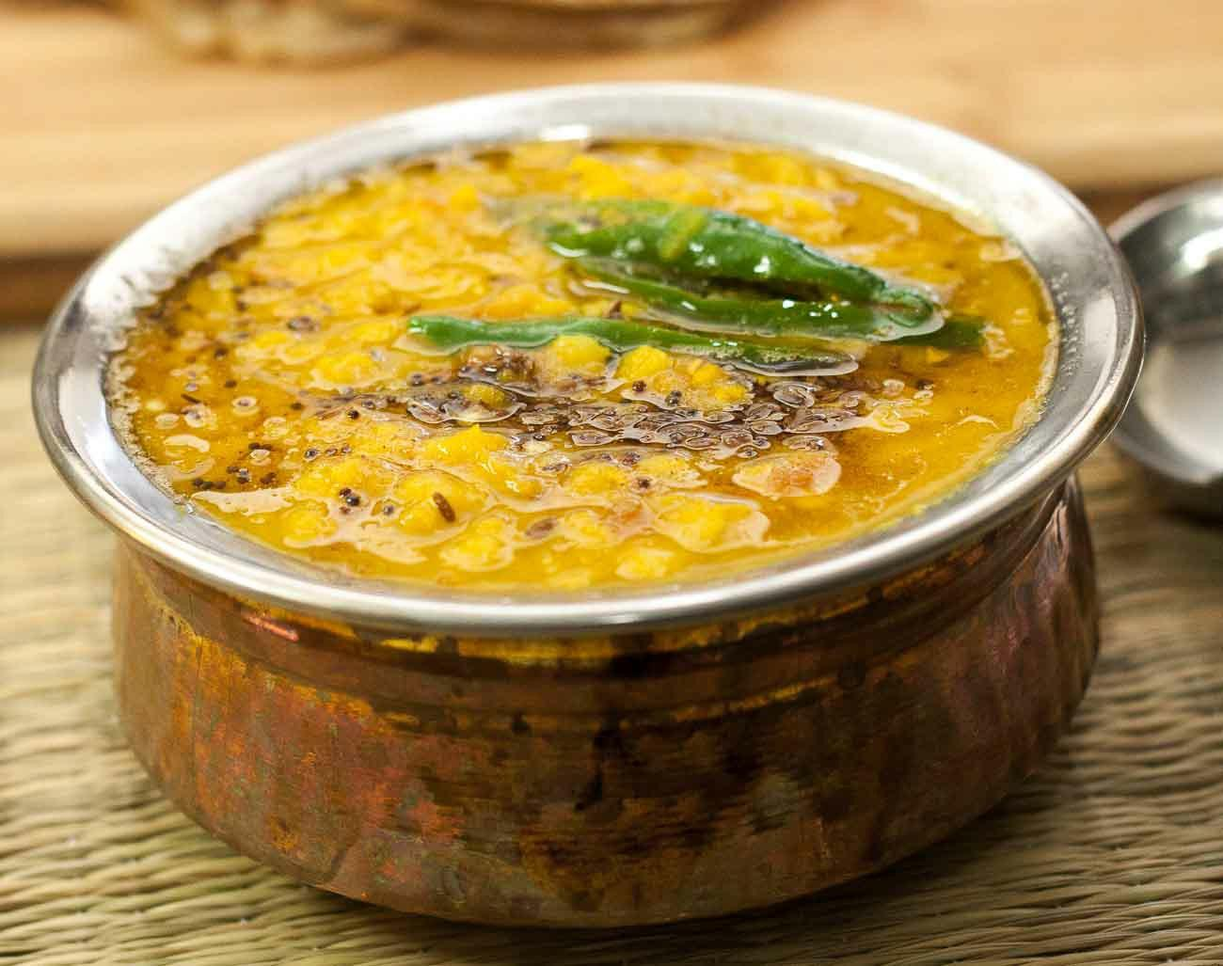Dal: (115, 143, 1052, 592)
